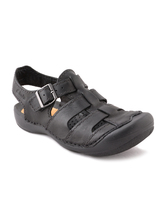shoes: (7, 61, 160, 159)
